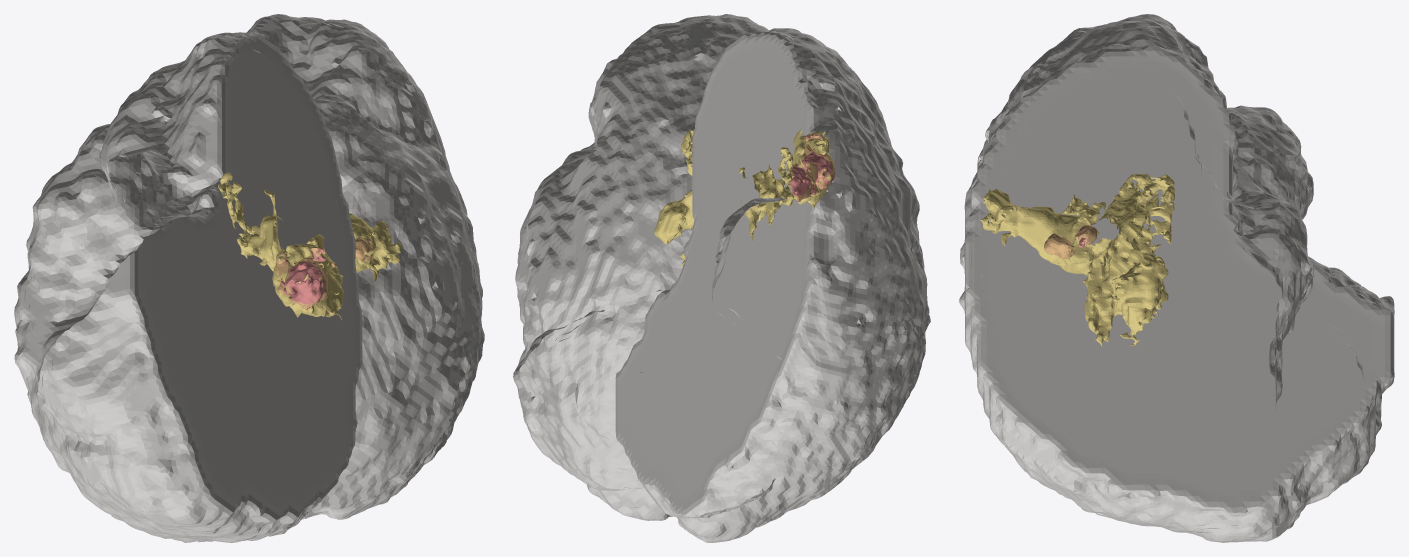
3 renders of one model, left to right at view 1: azimuth 30°, elevation 25°; view 2: azimuth 150°, elevation 25°; view 3: azimuth 270°, elevation 25°, orthographic. The views are drawn at different scales.
Parts seen in each view (by area): view 1: brain_left, brain_right, edema, enhancing, core; view 2: brain_left, brain_right, edema, enhancing, core; view 3: brain_right, edema, brain_left, core.
Boxes of the visible parts, x1,y1,x2,y2 form: brain_left: [14, 32, 362, 542]; brain_right: [247, 14, 484, 519]; edema: [218, 172, 401, 320]; enhancing: [281, 248, 325, 310]; core: [276, 237, 372, 309]; brain_left: [615, 28, 930, 542]; brain_right: [513, 14, 768, 520]; edema: [654, 129, 835, 266]; enhancing: [790, 134, 835, 201]; core: [787, 134, 834, 201]; brain_right: [959, 44, 1394, 542]; edema: [980, 174, 1174, 346]; brain_left: [960, 14, 1394, 316]; core: [1044, 225, 1099, 258].
Size of the model in its own units: 136 by 174 by 140.
